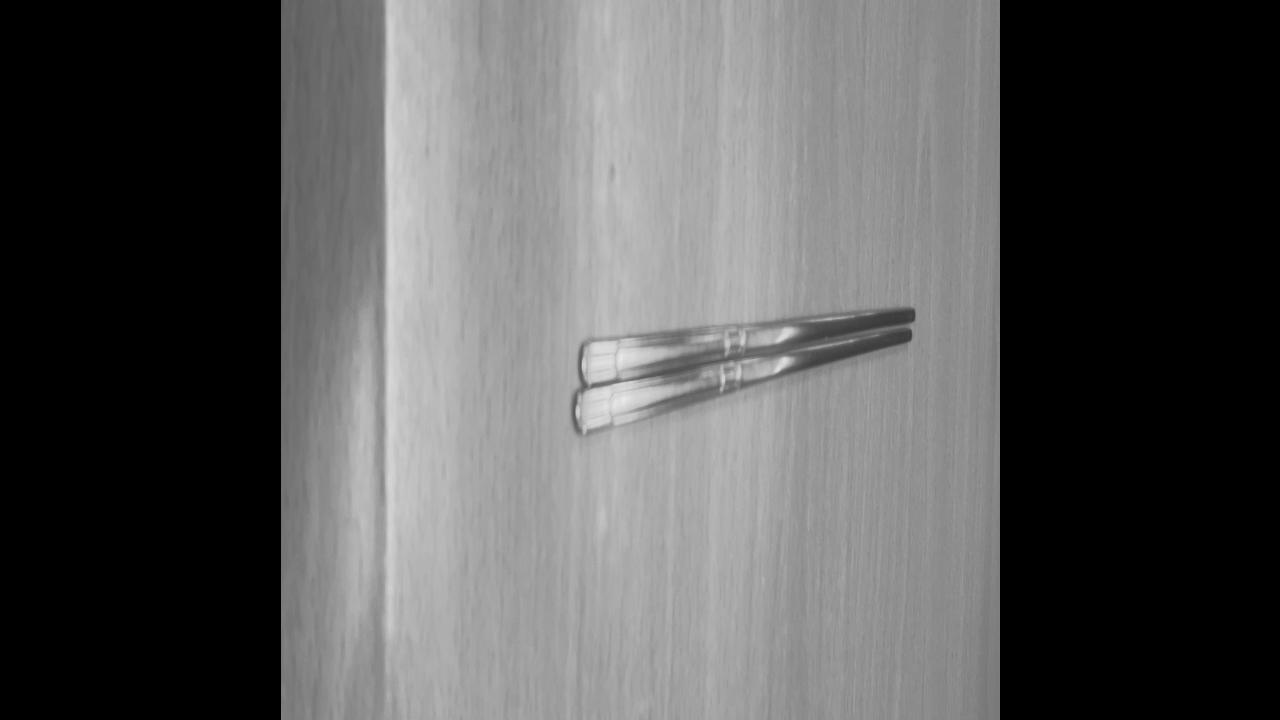chopstick: (580, 313, 914, 429)
